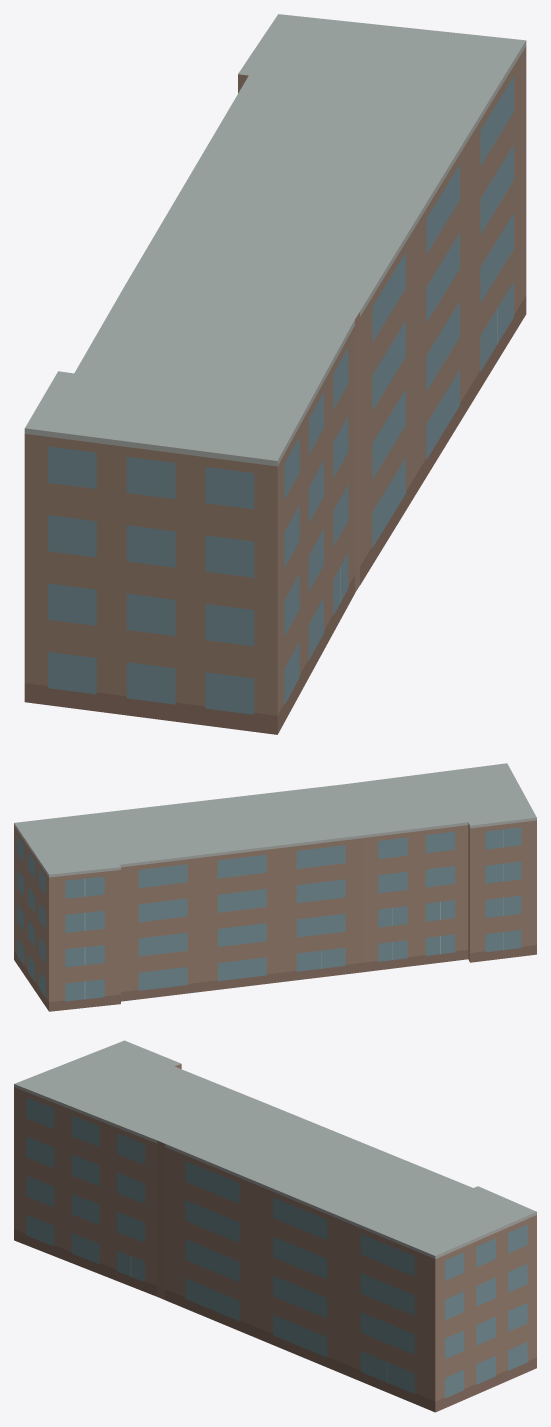
File: survey-upis-32758178.glb
3 views of the same model, one above another, from view 1: azimuth 30°, elevation 25°; view 2: azimuth 150°, elevation 25°; view 3: azimuth 270°, elevation 25° (orthographic). The views are drawn at different scales.
Parts seen in each view (by area): view 1: survey-upis-32758178.tmp; view 2: survey-upis-32758178.tmp; view 3: survey-upis-32758178.tmp.
Part boxes in pixels (left/top/right/bottom): survey-upis-32758178.tmp: left=24, top=14, right=526, bottom=734; survey-upis-32758178.tmp: left=14, top=763, right=536, bottom=1011; survey-upis-32758178.tmp: left=14, top=1040, right=536, bottom=1412.
Size of the model in its own units: 36.07 by 12.2 by 36.97.
